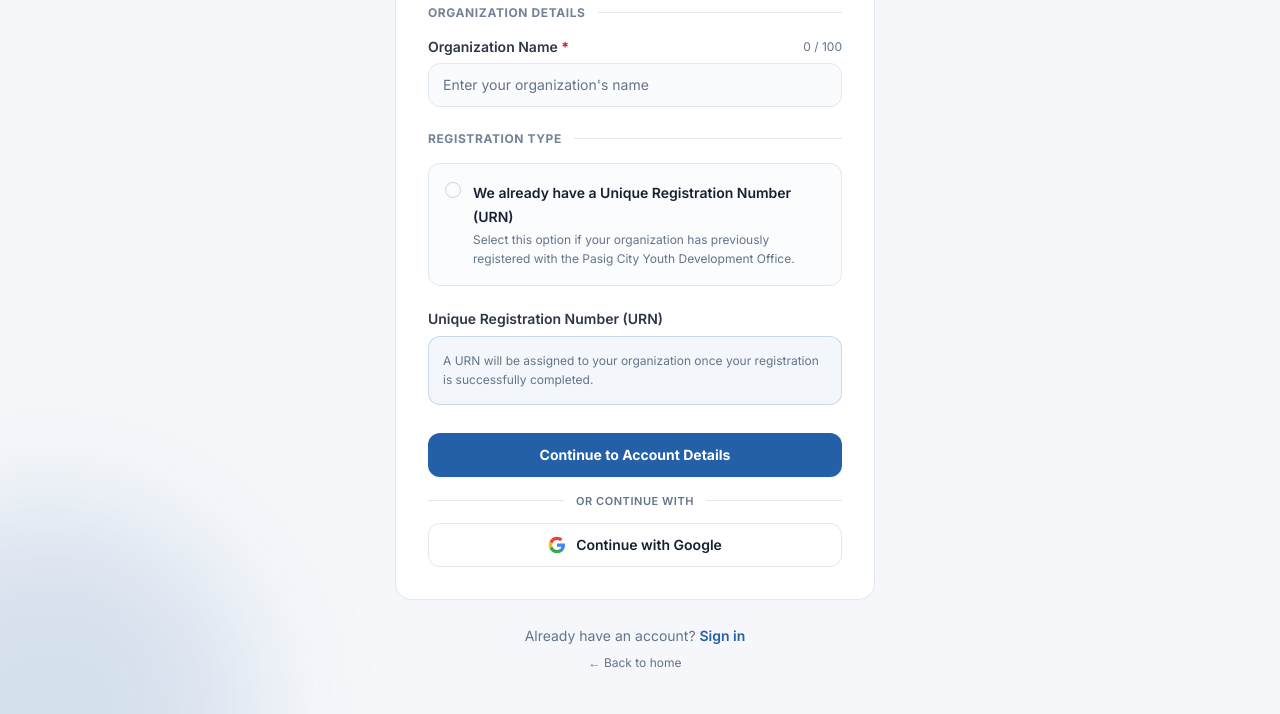
Organization Sign-Up Google Authentication Integration › TEST 5: Google OAuth initiation error displays inline error message
(page scrolled)
What coordinates should you click on to do the following:
click the button "Continue with Google"
I would click on:
 (635, 545)
Its box is [428,523,842,567].
(page scrolled)
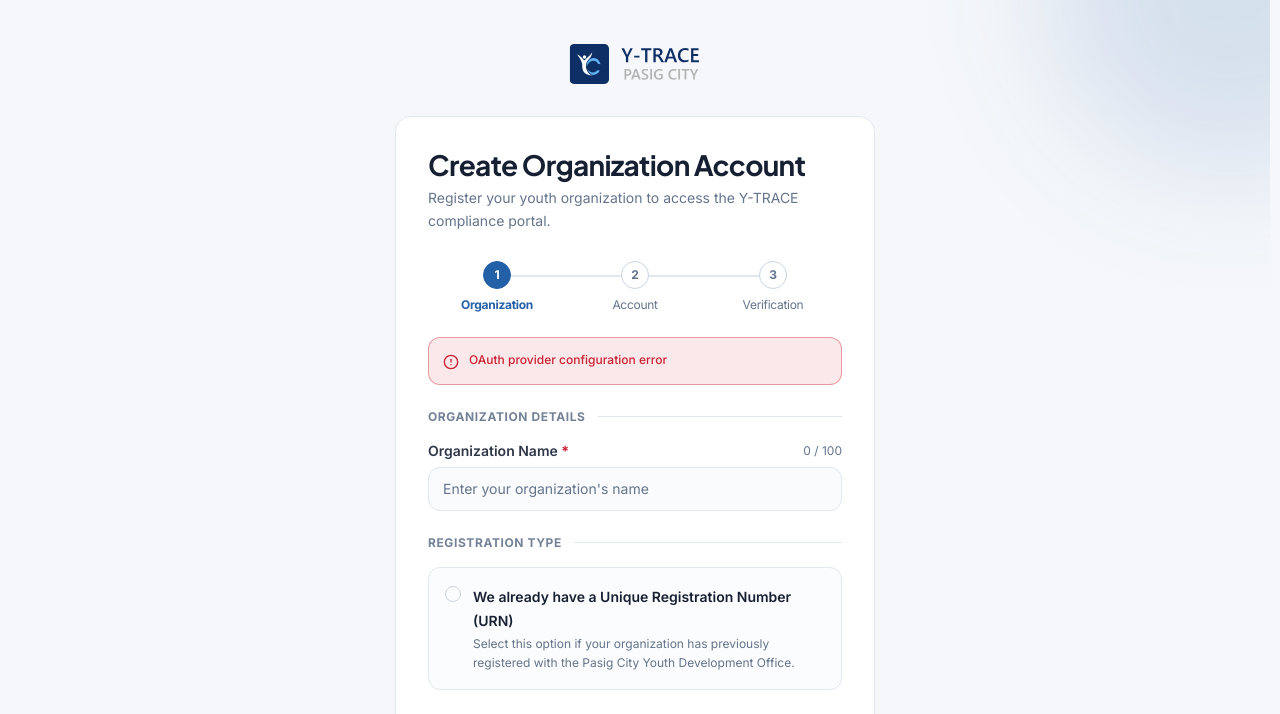
Expected: the message reads "OAuth provider configuration error", [469,352,667,366]
